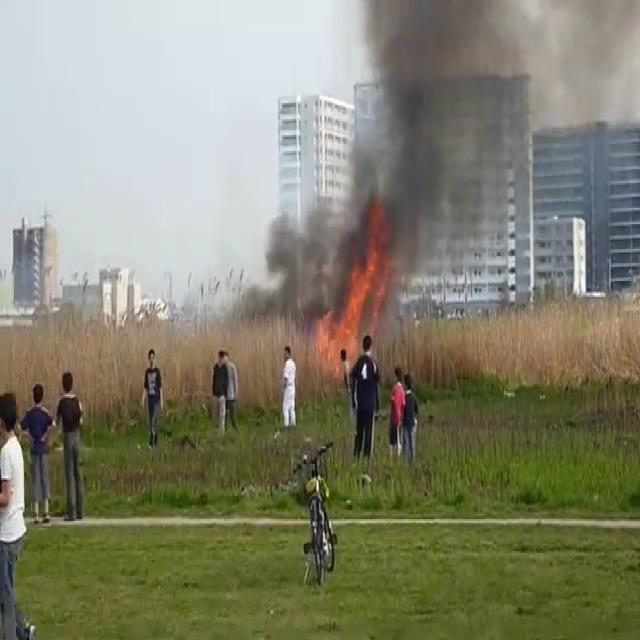Fire: (316, 238, 385, 374)
Smoke: (283, 0, 640, 295)
